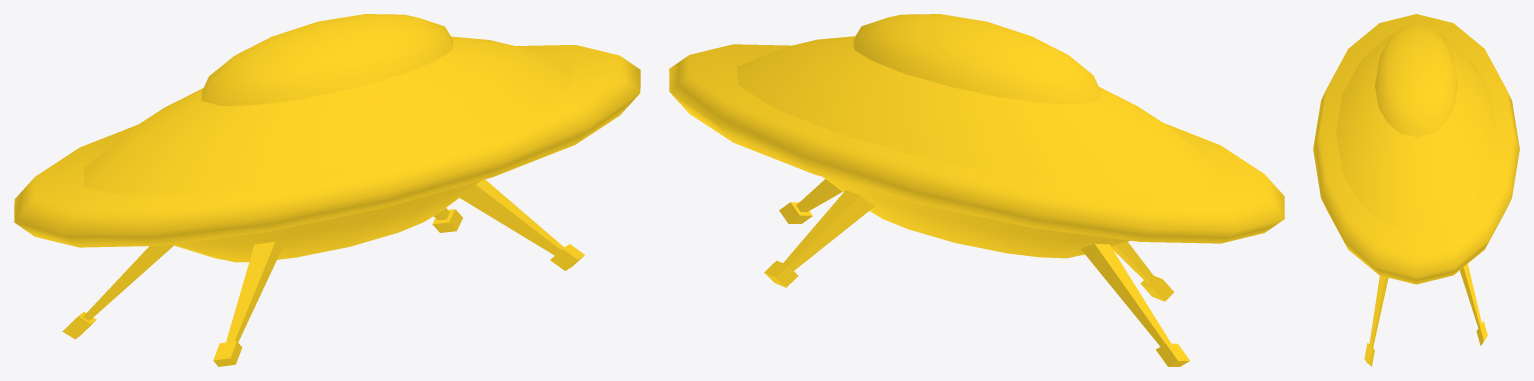
Rendered from ShipB.glb.
The picture shows the model from 3 angles, left to right: view 1: azimuth 30°, elevation 25°; view 2: azimuth 150°, elevation 25°; view 3: azimuth 270°, elevation 25°; orthographic projection. The views are drawn at different scales.
Visible parts, largest first — view 1: Mesh.119; view 2: Mesh.119; view 3: Mesh.119.
Part boxes in pixels (bbox=[...]): Mesh.119: bbox=[14, 14, 640, 366]; Mesh.119: bbox=[669, 14, 1284, 366]; Mesh.119: bbox=[1313, 14, 1519, 366].
Size of what is drawn, in the model's own units: 6.35 by 2.67 by 2.18.
1 material, 1 textured.
